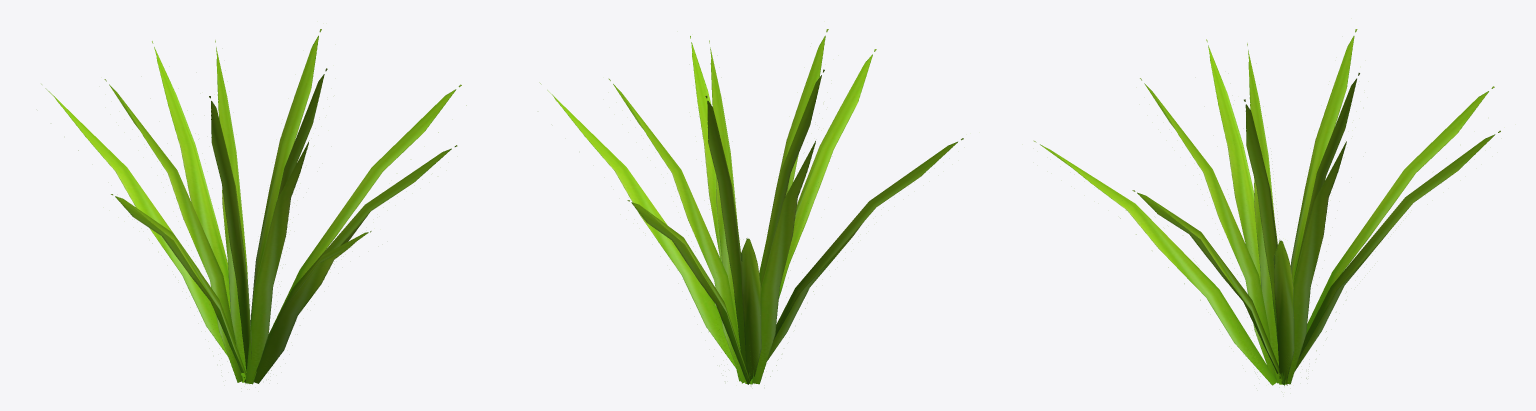
The model's file is plant17.FBX.
3 renders of one model, left to right at view 1: azimuth 30°, elevation 25°; view 2: azimuth 150°, elevation 25°; view 3: azimuth 270°, elevation 25°, orthographic.
Visible parts, largest first — view 1: plant17; view 2: plant17; view 3: plant17.
Part boxes in pixels (bbox=[...]): plant17: bbox=[41, 29, 466, 384]; plant17: bbox=[539, 29, 963, 384]; plant17: bbox=[1033, 29, 1500, 385].
Size of the model in its own units: 3.18 by 2.31 by 3.29.
